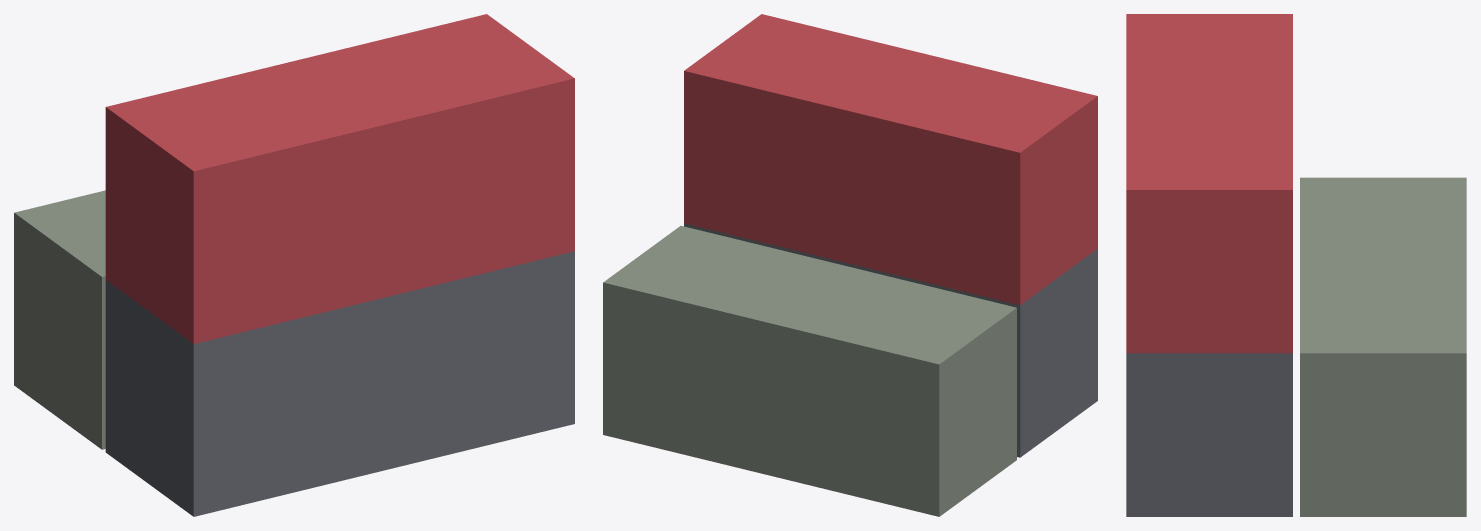
Rendered from shipping_container_stack.glb.
The picture shows the model from 3 angles, left to right: view 1: azimuth 30°, elevation 25°; view 2: azimuth 150°, elevation 25°; view 3: azimuth 270°, elevation 25°; orthographic projection. The views are drawn at different scales.
Parts seen in each view (by area): view 1: ContainerStack; view 2: ContainerStack; view 3: ContainerStack.
Boxes of the visible parts, box(x1,y1,x2,y2) form: ContainerStack: box(14, 14, 574, 516); ContainerStack: box(603, 14, 1097, 516); ContainerStack: box(1126, 14, 1466, 516).
Size of the model in its own units: 6 by 5.2 by 4.9.
